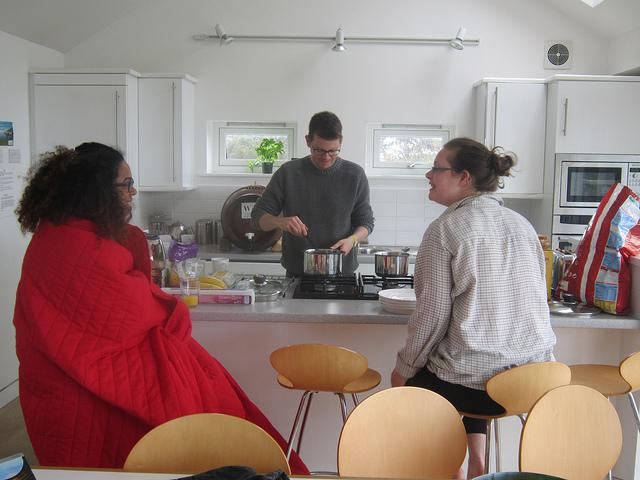Lavaplatos: (292, 222, 394, 259)
